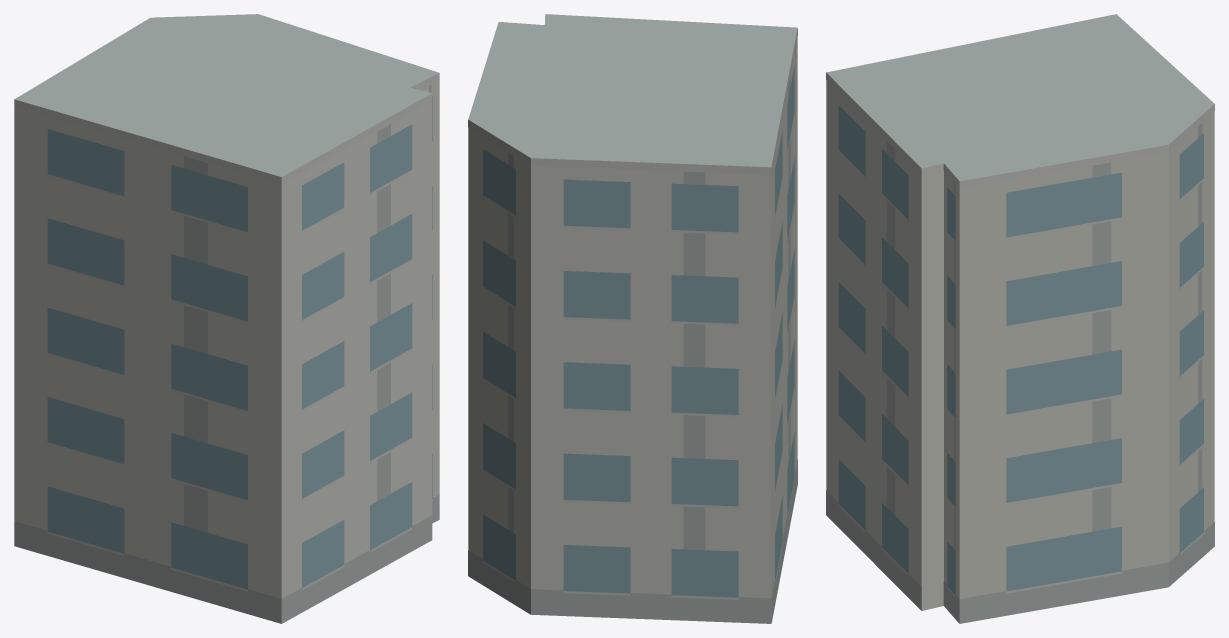
Rendered from survey-upis-32745565.glb.
3 views of the same model, side by side, from view 1: azimuth 30°, elevation 25°; view 2: azimuth 150°, elevation 25°; view 3: azimuth 270°, elevation 25° (orthographic). The views are drawn at different scales.
Parts seen in each view (by area): view 1: survey-upis-32745565.tmp; view 2: survey-upis-32745565.tmp; view 3: survey-upis-32745565.tmp.
Part boxes in pixels (x1,y1,x2,y2): survey-upis-32745565.tmp: (14,14,439,623); survey-upis-32745565.tmp: (468,14,797,623); survey-upis-32745565.tmp: (826,14,1214,623).
Bounding box in the file's own units: 11.6 × 14.3 × 11.39.
